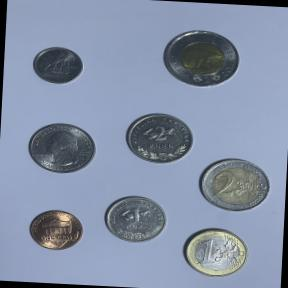coin: (158, 25, 243, 92), (195, 154, 274, 218), (23, 118, 100, 178), (122, 110, 198, 168), (178, 224, 252, 282), (25, 206, 89, 255), (28, 43, 88, 89)
